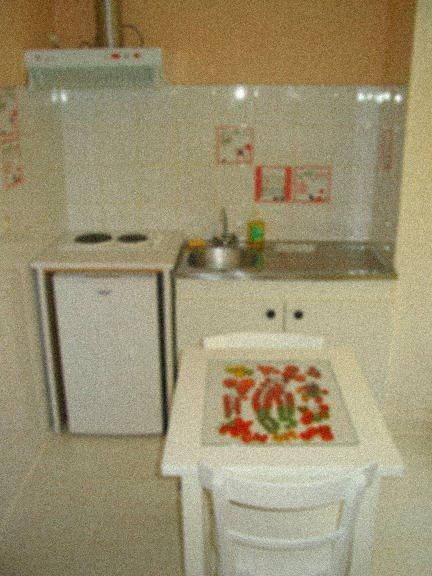Electrodomestico: (52, 269, 164, 431)
Lavaplatos: (182, 205, 264, 274)
